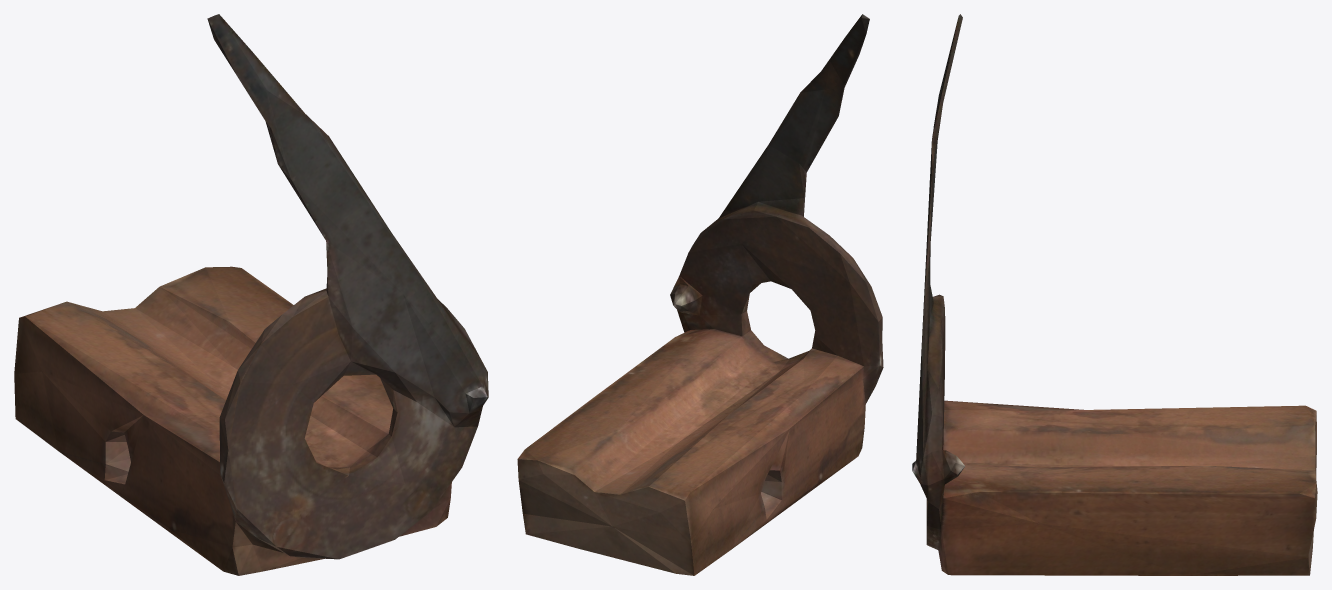
The picture shows the model from 3 angles, left to right: view 1: azimuth 30°, elevation 25°; view 2: azimuth 150°, elevation 25°; view 3: azimuth 270°, elevation 25°; orthographic projection. The views are drawn at different scales.
Visible parts, largest first — view 1: Tabakschneidemaschine_0.4k_0.5k; view 2: Tabakschneidemaschine_0.4k_0.5k; view 3: Tabakschneidemaschine_0.4k_0.5k.
Part boxes in pixels (bbox=[...]): Tabakschneidemaschine_0.4k_0.5k: bbox=[14, 14, 488, 575]; Tabakschneidemaschine_0.4k_0.5k: bbox=[517, 14, 883, 575]; Tabakschneidemaschine_0.4k_0.5k: bbox=[912, 14, 1317, 575].
Bounding box in the file's own units: 0.0832 × 0.172 × 0.1337.
1 material, 1 textured.
